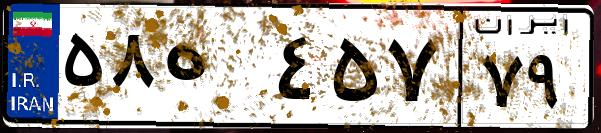4: (270, 28, 330, 110)
5: (330, 28, 385, 110), (57, 26, 110, 100)
7: (385, 28, 445, 110), (475, 38, 525, 113)
8: (110, 28, 158, 98)
9: (525, 38, 570, 115)
ه: (158, 20, 270, 120)
